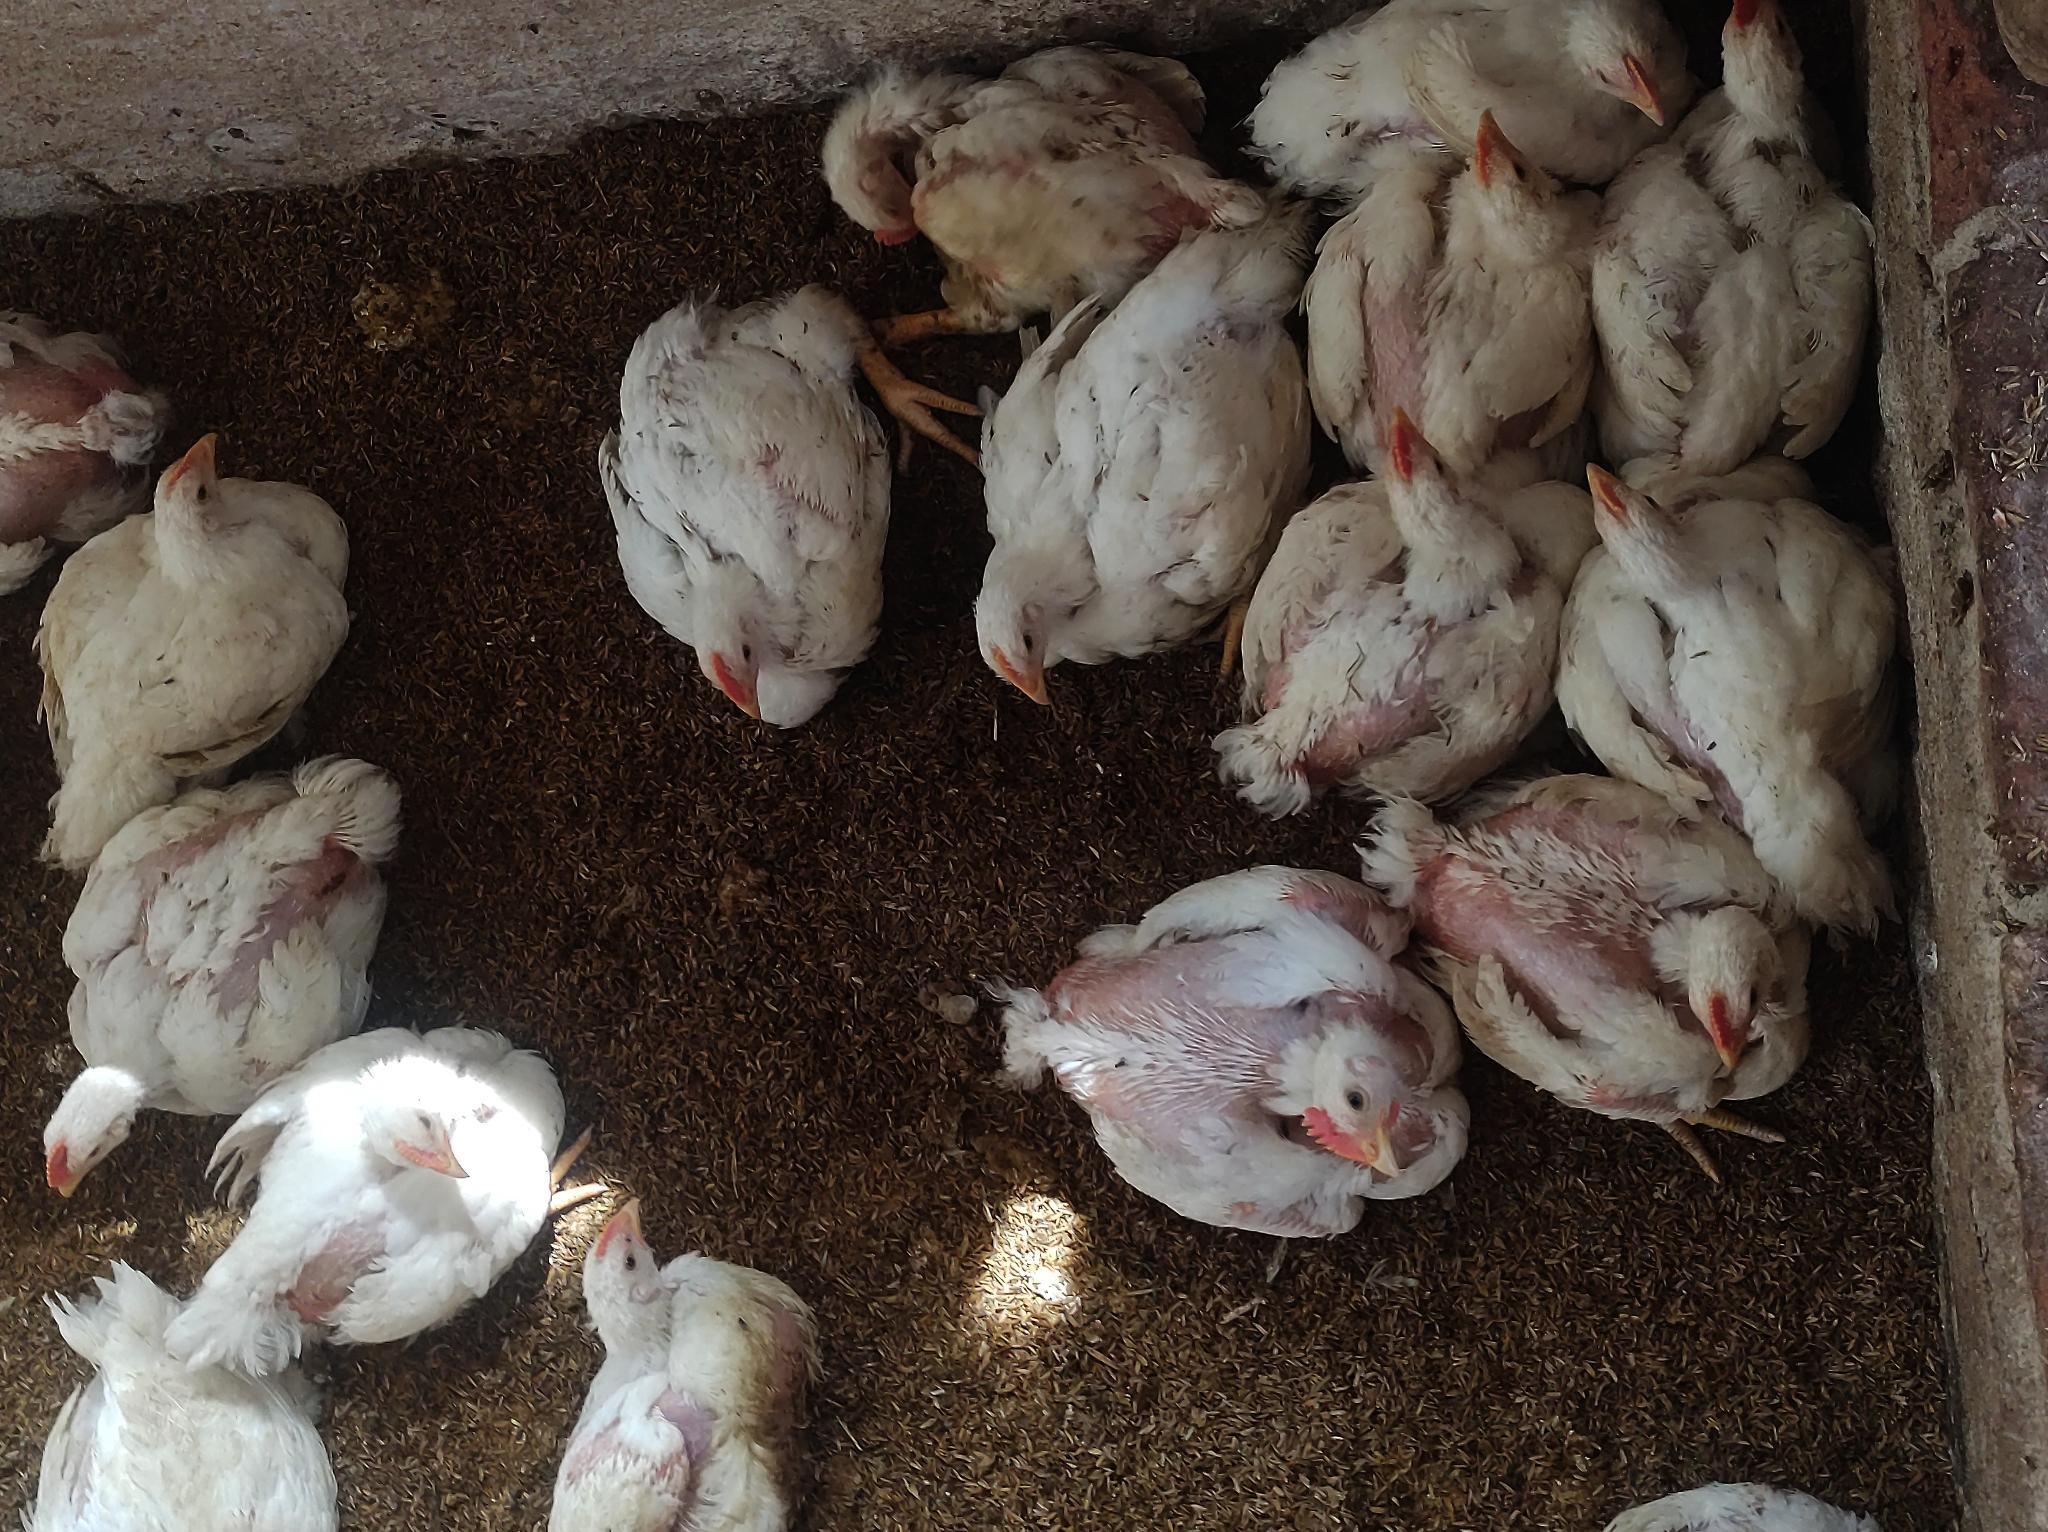Pollos: (1051, 874, 1495, 1324), (967, 212, 1322, 732), (34, 732, 430, 1189), (574, 262, 927, 742), (1208, 414, 1585, 830), (1474, 753, 1857, 1162), (182, 1015, 602, 1366), (803, 10, 1256, 323), (1588, 6, 1914, 423), (1581, 433, 1903, 806), (56, 438, 396, 779), (1232, 0, 1699, 212), (1322, 92, 1602, 426), (550, 1220, 837, 1532), (13, 1263, 343, 1532)
